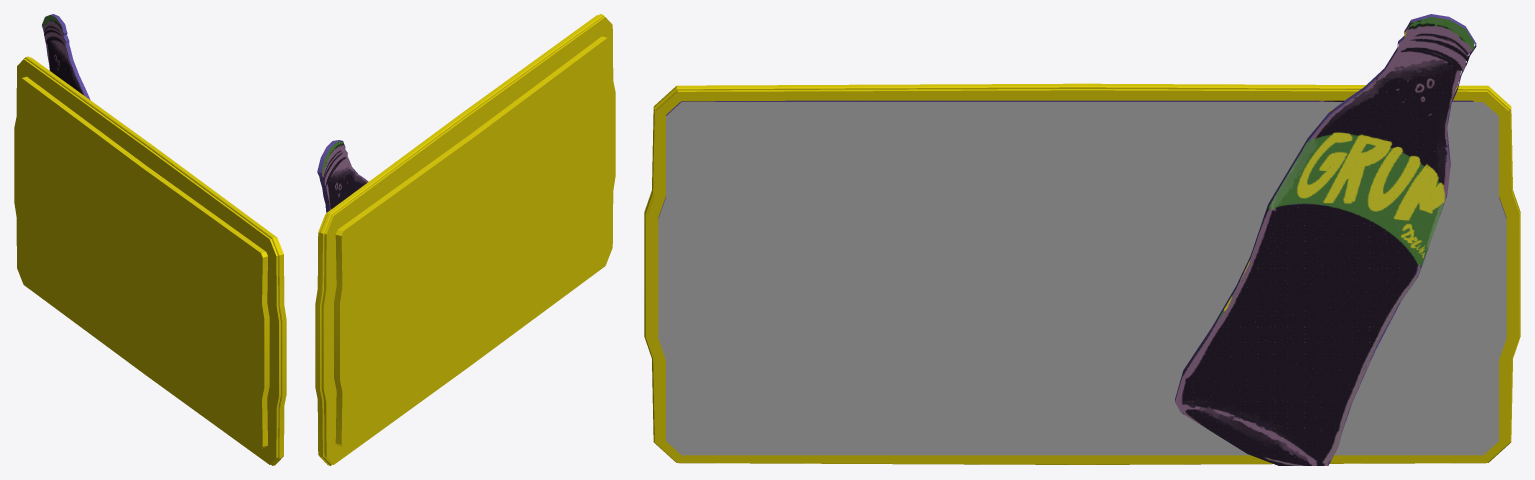
File: ddddd.fbx
3 renders of one model, left to right at view 1: azimuth 30°, elevation 25°; view 2: azimuth 150°, elevation 25°; view 3: azimuth 270°, elevation 25°, orthographic. The views are drawn at different scales.
Parts seen in each view (by area): view 1: bill2; view 2: bill2; view 3: bill2.
Part boxes in pixels (box(x1,y1,x2,y2)): bill2: box(14, 14, 286, 465); bill2: box(315, 14, 615, 465); bill2: box(644, 14, 1520, 465).
Bounding box in the file's own units: 125 × 1398 × 2419.
